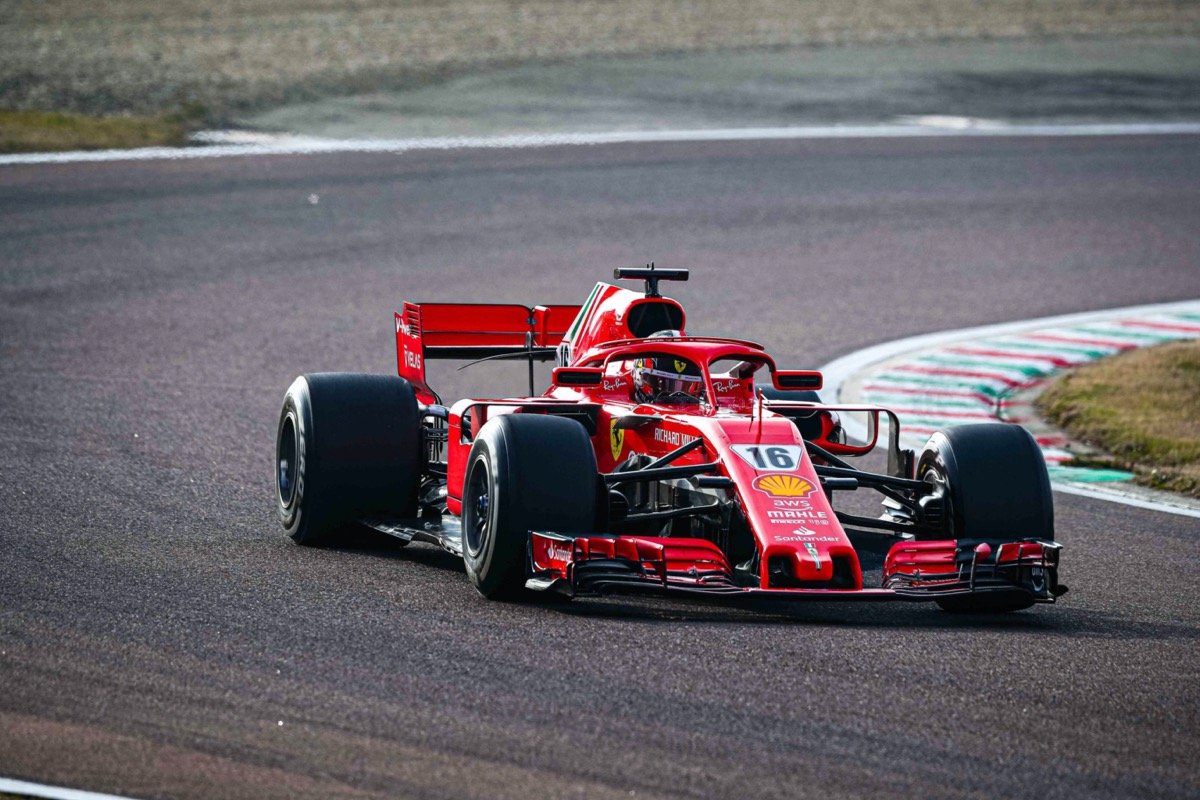Formule 1: (273, 284, 1052, 623)
